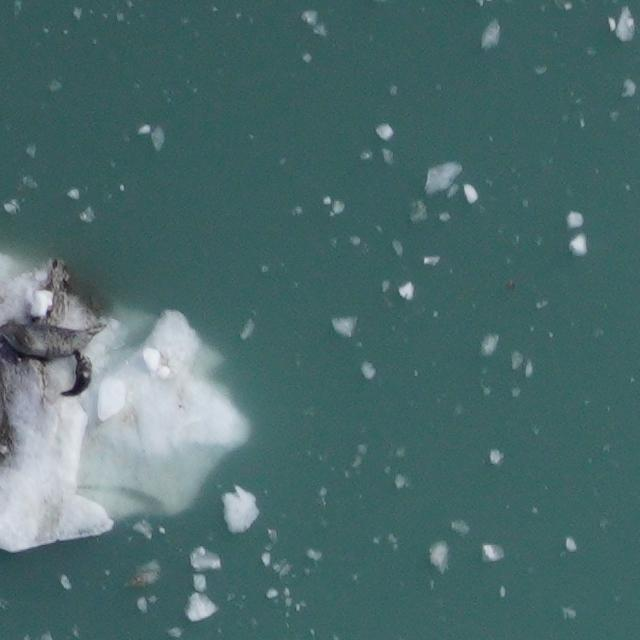seal: (0, 318, 112, 365), (58, 347, 96, 399)
